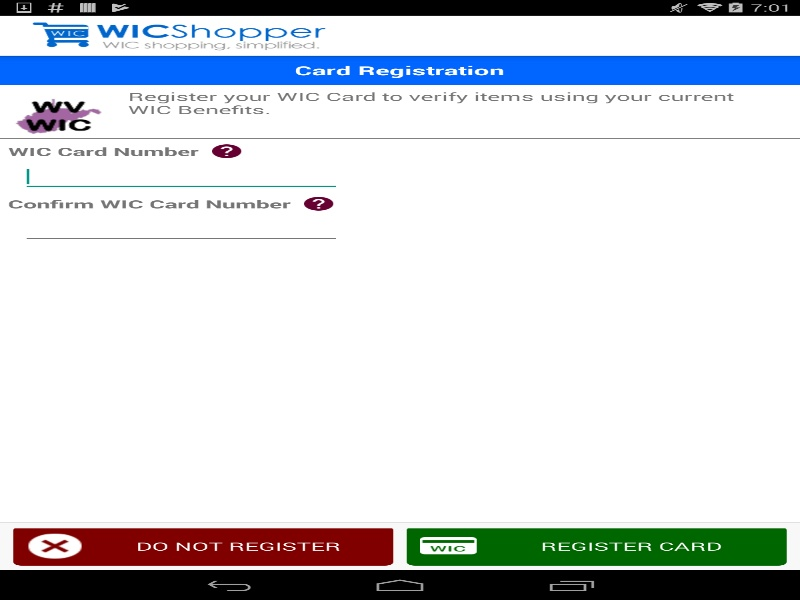Button: (13, 526, 393, 565), (406, 526, 786, 565), (212, 144, 241, 158), (304, 196, 333, 210)
Input: (21, 162, 341, 191), (21, 215, 341, 243)
